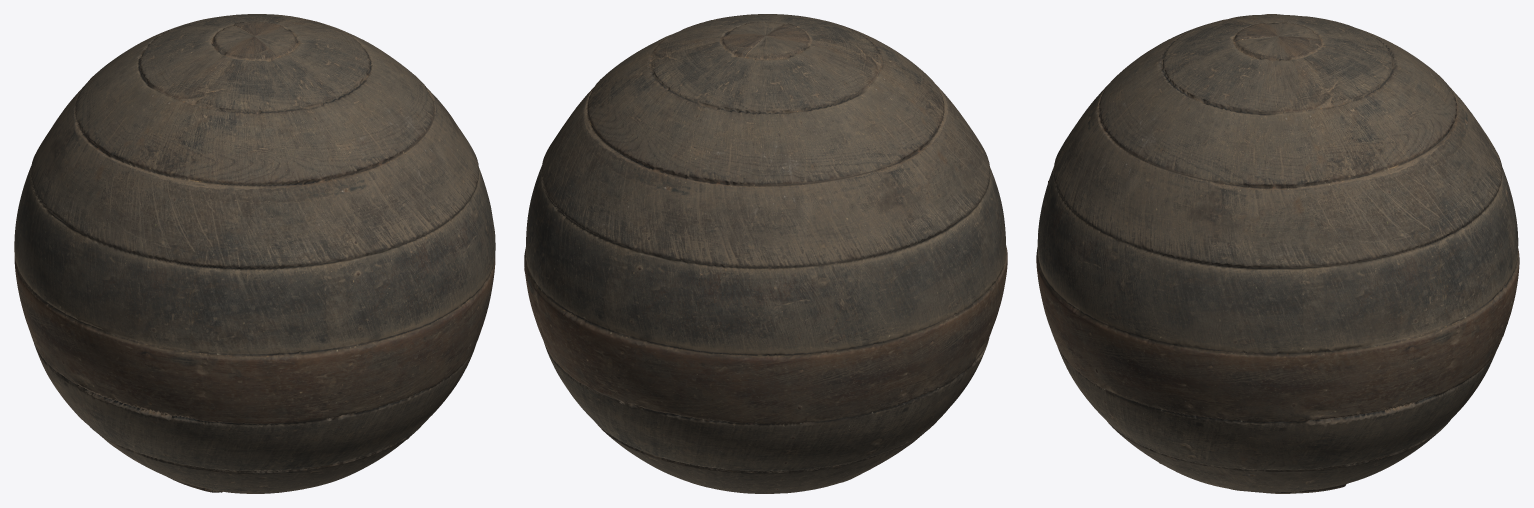
File: dark_wooden_planks_4k.gltf
3 views of the same model, side by side, from view 1: azimuth 30°, elevation 25°; view 2: azimuth 150°, elevation 25°; view 3: azimuth 270°, elevation 25° (orthographic).
Parts seen in each view (by area): view 1: sphere_gltf; view 2: sphere_gltf; view 3: sphere_gltf.
Boxes of the visible parts, box(x1,y1,x2,y2) form: sphere_gltf: box(14, 14, 495, 493); sphere_gltf: box(524, 14, 1007, 493); sphere_gltf: box(1036, 14, 1519, 493).
Bounding box in the file's own units: 2.04 × 2.04 × 2.04.
Materials: 1 (1 with a texture image).
